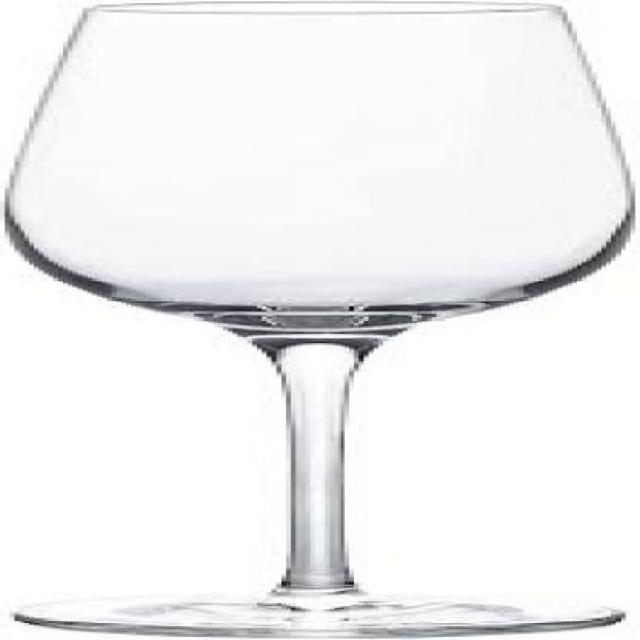glass: (4, 1, 640, 638)
